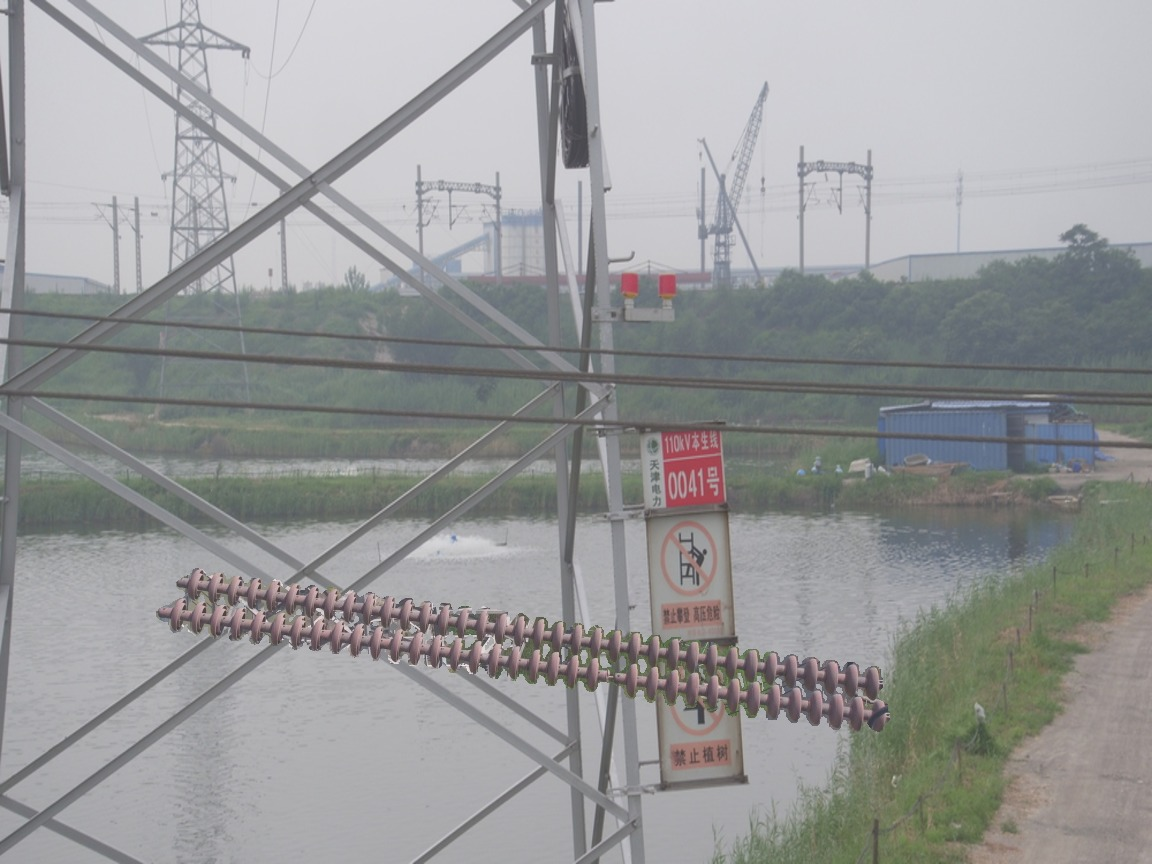defect: (579, 655, 645, 697)
